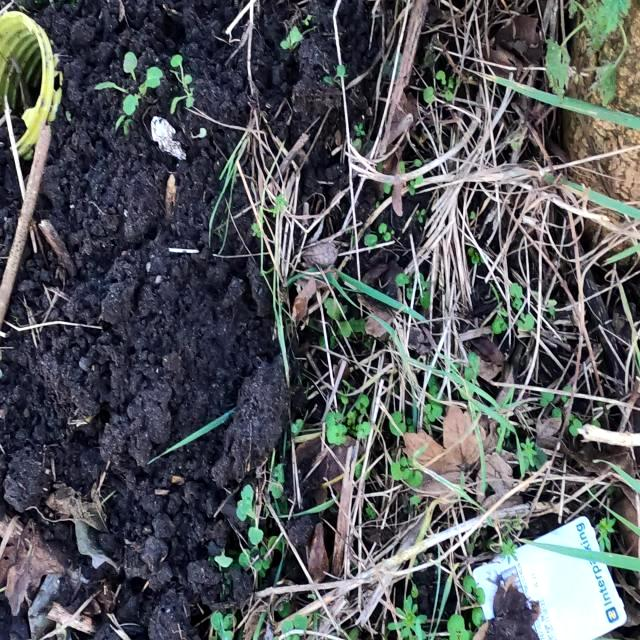Paper: (468, 516, 628, 640)
